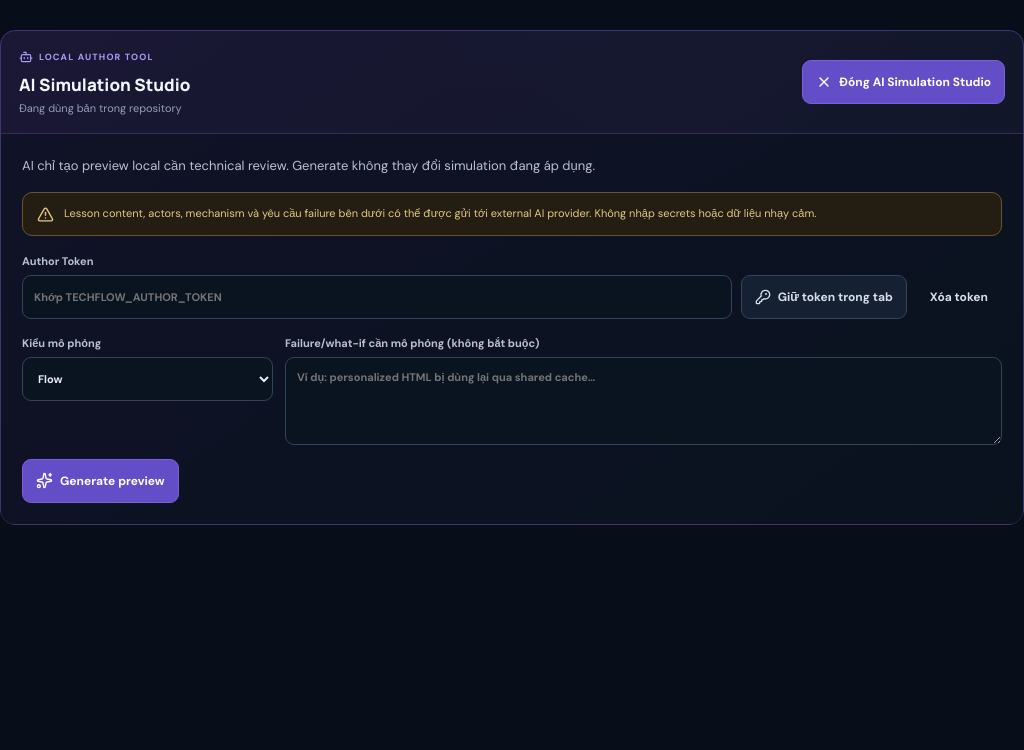
Test case: LessonSimulationStudio › preserves the previous candidate when regenerate fails or returns an invalid binding
Type "token" into the password field labelled "Author Token" at (377, 297), box [22,275,732,319]
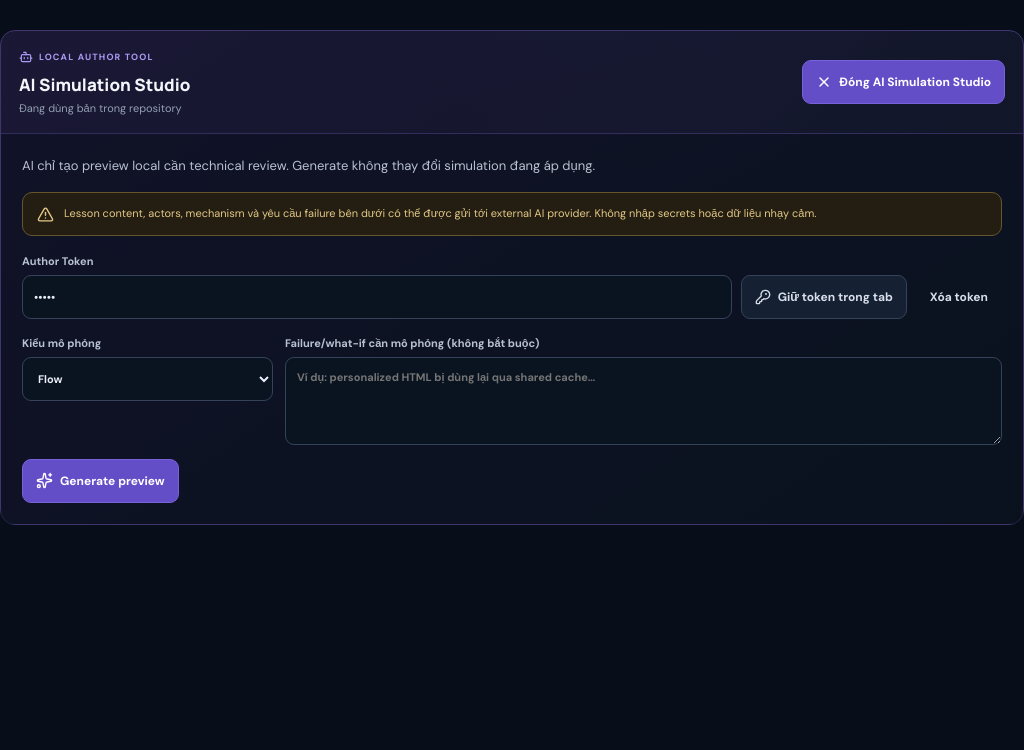
Click the button "Generate preview" at (100, 481), box [22,459,179,503]
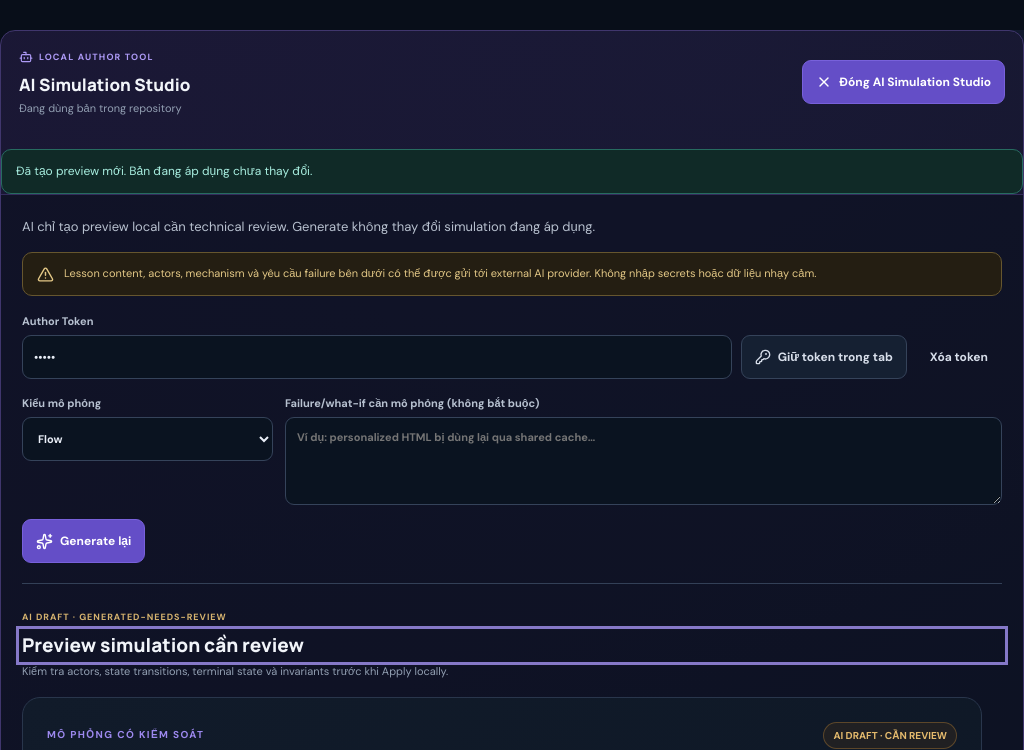
Result: the heading "Preview simulation cần review" is shown at [22,632,304,658]
Click the button "Generate lại" at (84, 542), box [22,520,145,564]
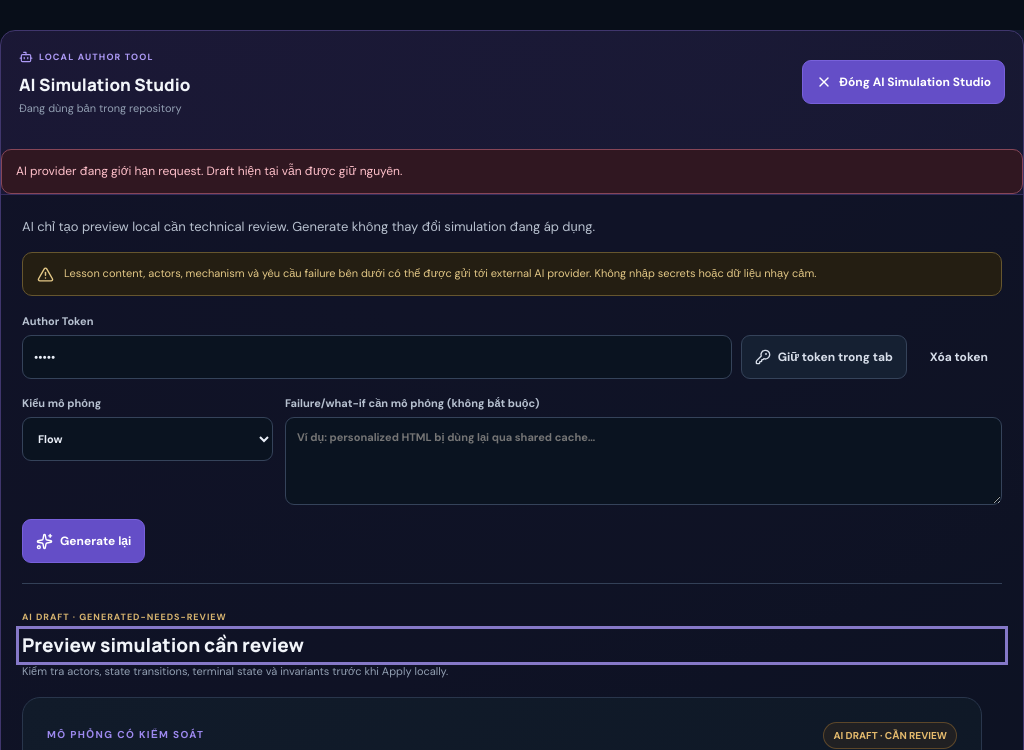
Result: the heading "Preview simulation cần review" is shown at [22,632,304,658]
Result: the message "AI provider đang giới hạn request. Draft hiện tại vẫn được giữ nguyên." is shown at [1,149,1023,194]
Result: the text "AI provider đang giới hạn request" is shown at [16,163,402,179]
Click the button "Generate lại" at (84, 542), box [22,520,145,564]
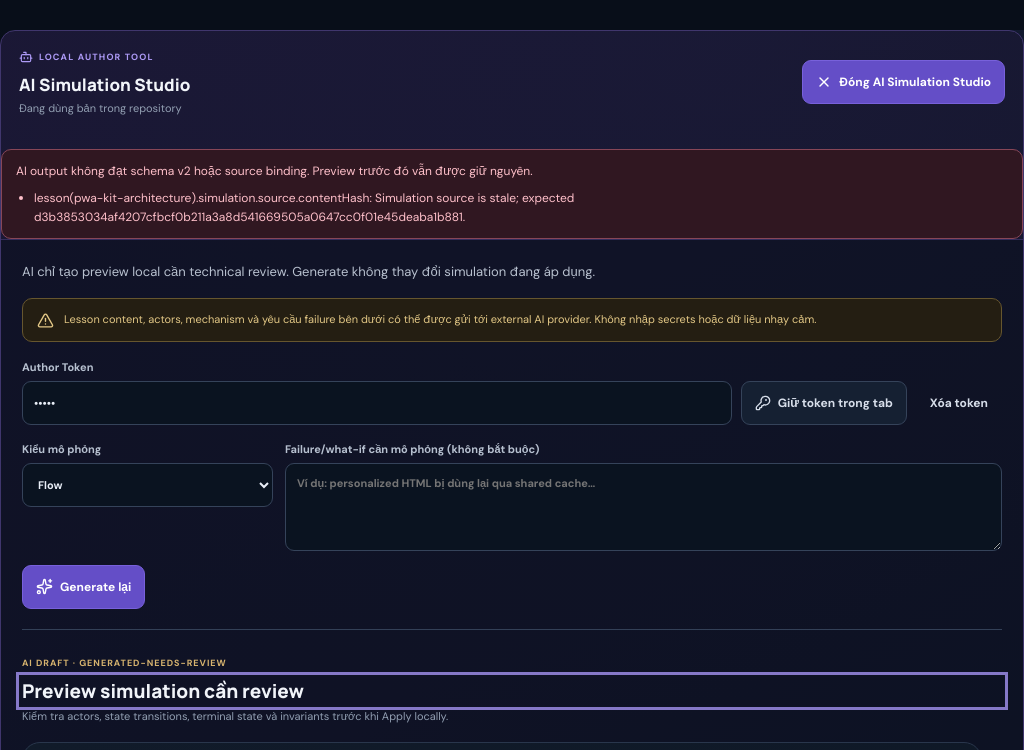
Result: the heading "Preview simulation cần review" is shown at [22,678,304,704]
Result: the text "AI output không đạt schema v2" is shown at [16,163,533,179]
